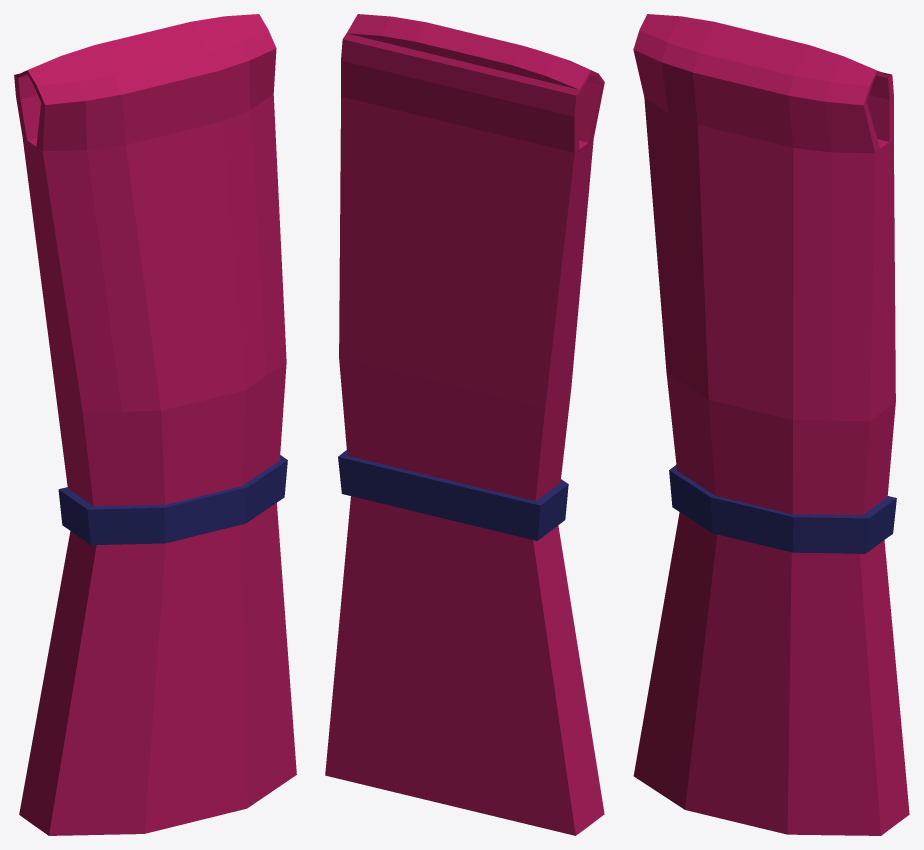
Rendered from Interior_CurtainRight.fbx.
3 views of the same model, side by side, from view 1: azimuth 30°, elevation 25°; view 2: azimuth 150°, elevation 25°; view 3: azimuth 330°, elevation 25° (orthographic).
Visible parts, largest first — view 1: Cylinder.152; view 2: Cylinder.152; view 3: Cylinder.152.
Part boxes in pixels (<box>): Cylinder.152: <box>14,14,296,835</box>; Cylinder.152: <box>325,14,604,835</box>; Cylinder.152: <box>633,14,909,835</box>.
Bounding box in the file's own units: 47.36 × 136 × 17.53.
